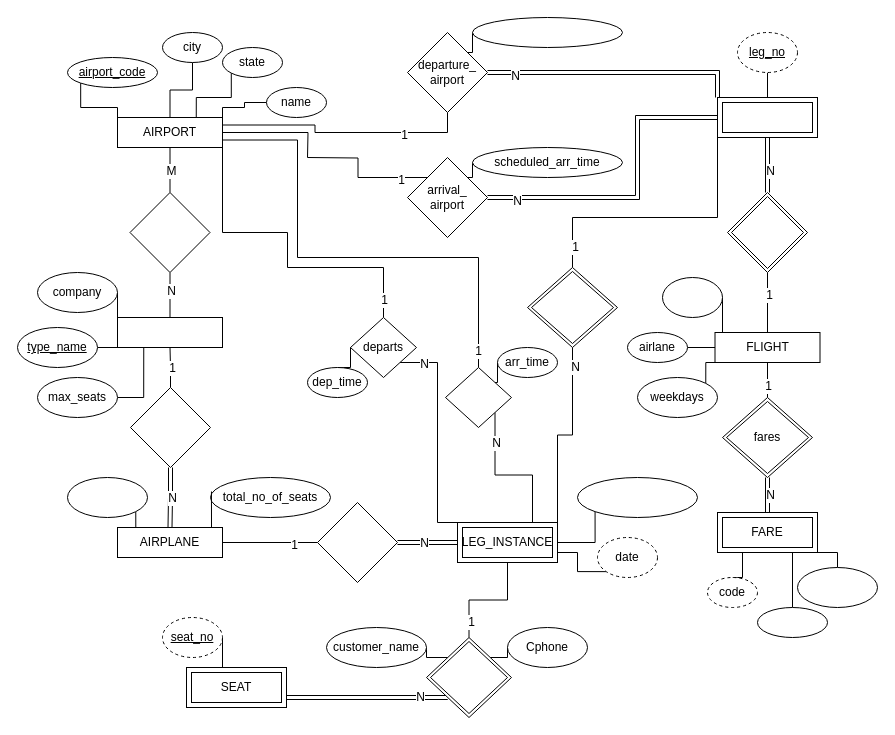
The diagram is 895 pixels wide and 735 high, and some of its shapes have lost their labels. The centre of each missing label's shape, as x and y in pixels:
"airplane_id" goes at (x=107, y=497).
"AIRPLANE_TYPE" goes at (x=169, y=332).
"amount" goes at (x=792, y=622).
"arrives" goes at (x=478, y=397).
"assigned" goes at (x=357, y=542).
"can_ land" goes at (x=169, y=232).
"FLIGHT_LEG" goes at (x=767, y=117).
"instance_of" goes at (x=572, y=307).
"legs" goes at (x=767, y=232).
"no_of_avail_seats" goes at (x=637, y=497).
"number" goes at (x=692, y=297).
"reservation" goes at (x=469, y=677).
"restrictions" goes at (x=837, y=587).
"scheduled_dep_time" goes at (x=547, y=32).
"type" goes at (x=170, y=427).
